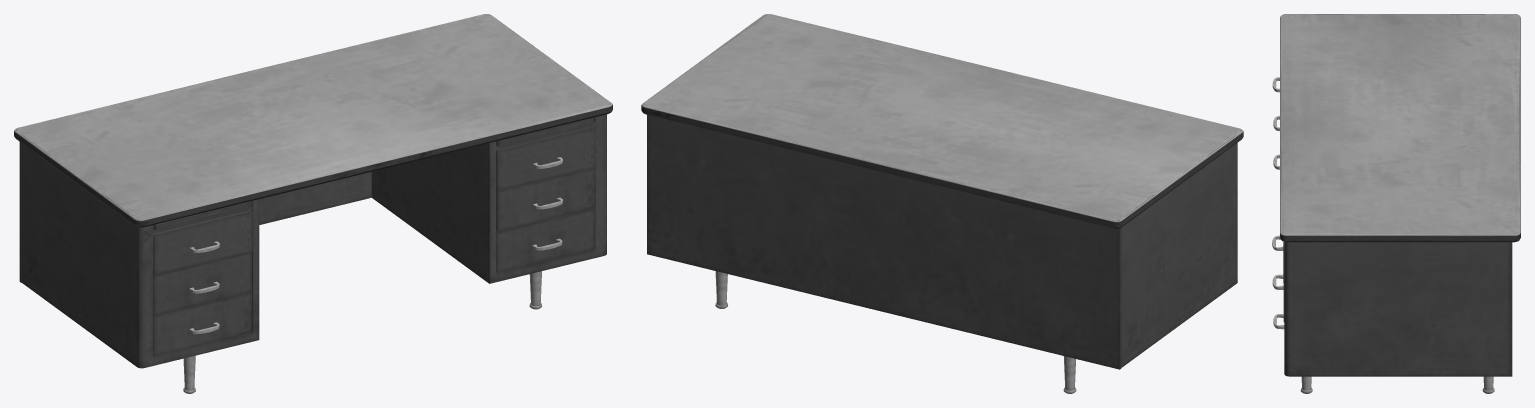
Rendered from desk.glb.
3 renders of one model, left to right at view 1: azimuth 30°, elevation 25°; view 2: azimuth 150°, elevation 25°; view 3: azimuth 270°, elevation 25°, orthographic. The views are drawn at different scales.
Parts seen in each view (by area): view 1: metal_office_desk, metal_office_desk_drawer_04, metal_office_desk_drawer_01, metal_office_desk_drawer_02, metal_office_desk_drawer_03, metal_office_desk_drawer_06, metal_office_desk_drawer_05, metal_office_desk_tray_01, metal_office_desk_tray_02; view 2: metal_office_desk; view 3: metal_office_desk.
Part boxes in pixels (box(x1,y1,x2,y2)): metal_office_desk: box(14, 14, 612, 393); metal_office_desk_drawer_04: box(153, 210, 252, 275); metal_office_desk_drawer_01: box(496, 126, 595, 191); metal_office_desk_drawer_02: box(496, 167, 595, 231); metal_office_desk_drawer_03: box(496, 208, 594, 272); metal_office_desk_drawer_06: box(153, 292, 251, 356); metal_office_desk_drawer_05: box(153, 252, 251, 315); metal_office_desk_tray_01: box(153, 201, 251, 230); metal_office_desk_tray_02: box(496, 117, 594, 146); metal_office_desk: box(641, 14, 1243, 393); metal_office_desk: box(1280, 14, 1520, 393).
Bounding box in the file's own units: 2 × 0.7875 × 0.9472.
Materials: 1 (1 with a texture image).
